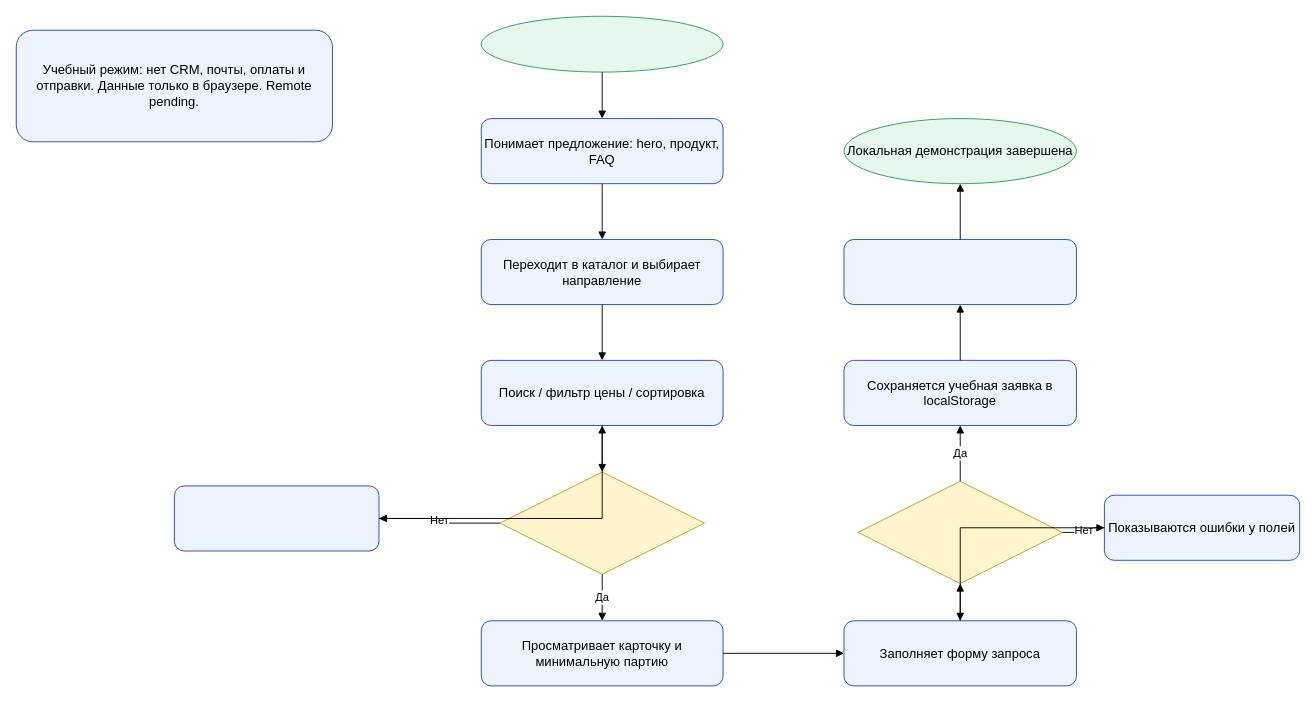
This 1316x702 diagram has some shape labels left out. The shapes that lost their labels are listed below. From the top down, each one's centre as x and y in pixels, then its label:
point 601,43: Пользователь открывает лендинг
point 959,272: Открывает кабинет: просмотр / экспорт / удаление
point 276,518: Сбрасывает или меняет фильтры
point 601,522: Найден подходящий набор?
point 960,532: Поля валидны и есть согласие?
